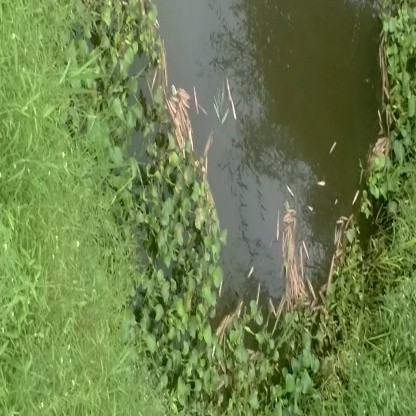leaf: (267, 207, 316, 297)
